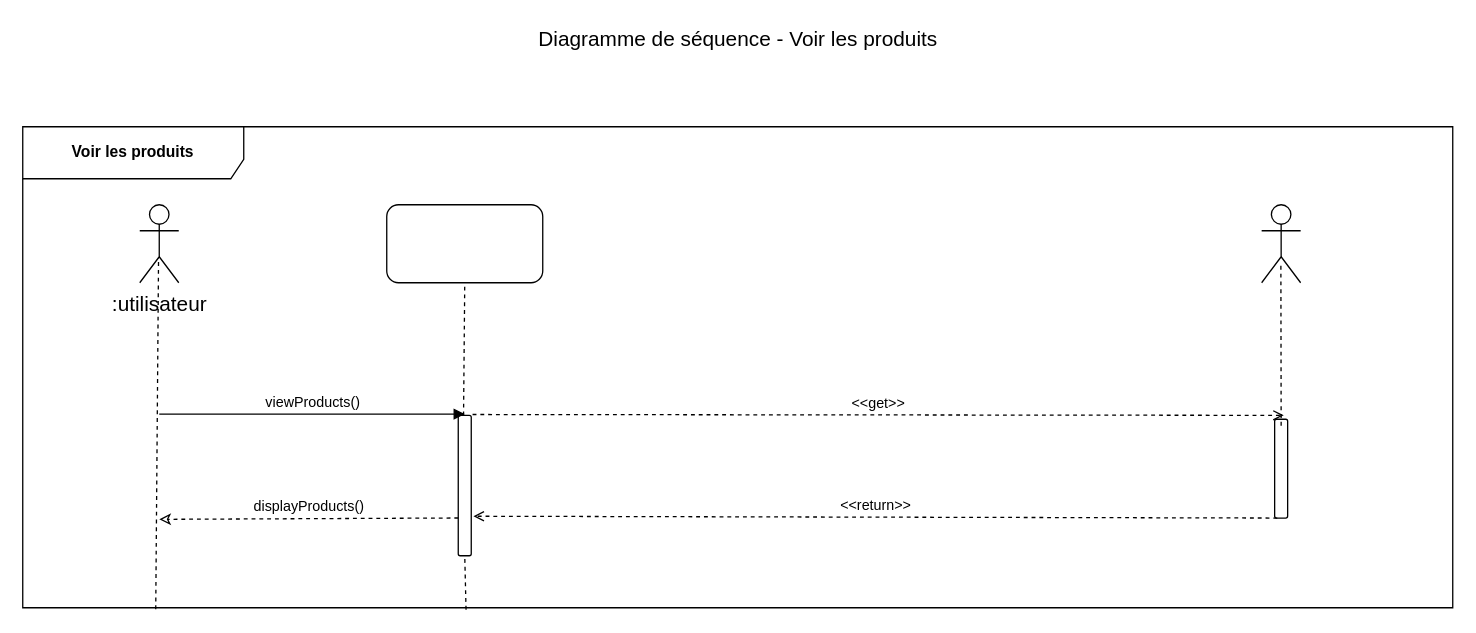
Image size: 1476x633. Some labels were removed from this diagram. Here are the shapes that lost their labels. From the top down, the box of each, then its label:
(385, 203, 543, 283): :system
(1260, 203, 1301, 283): :bdd
